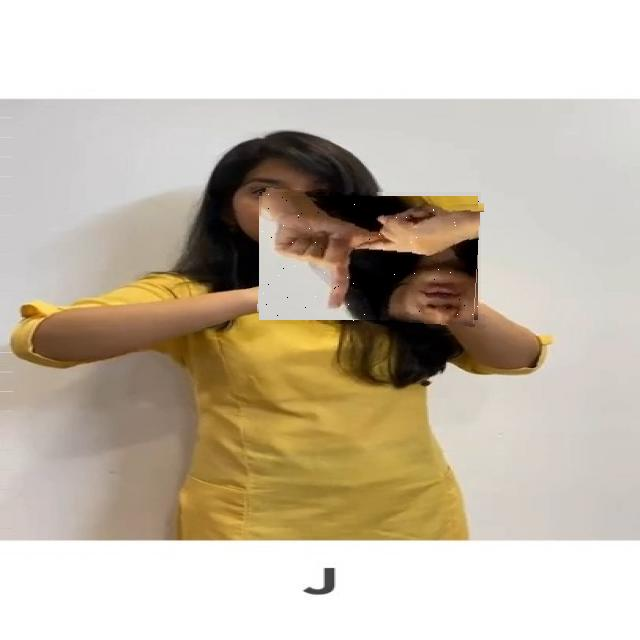J: (260, 192, 483, 324)
